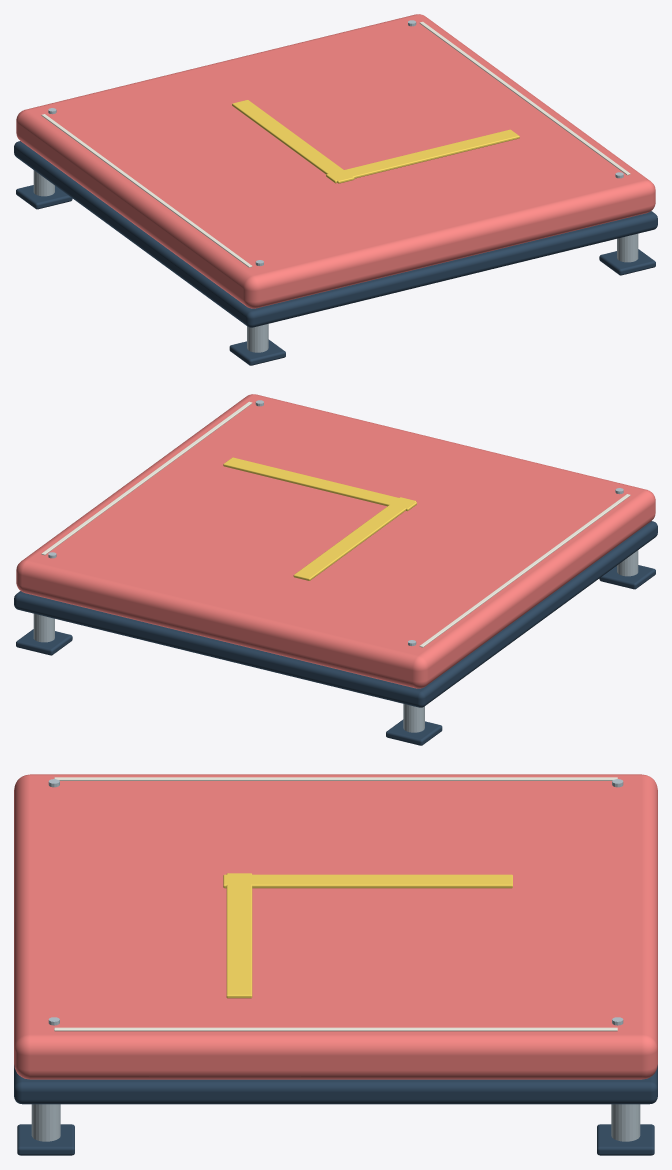
File: party-obstacle-course-party-obstacle-course-platform-c-126f562b__28924.glb
3 renders of one model, top to bottom at view 1: azimuth 30°, elevation 25°; view 2: azimuth 150°, elevation 25°; view 3: azimuth 270°, elevation 25°, orthographic. The views are drawn at different scales.
Parts seen in each view (by area): view 1: party-obstacle-course-platform-corner; view 2: party-obstacle-course-platform-corner; view 3: party-obstacle-course-platform-corner.
Boxes of the visible parts, box(x1,y1,x2,y2) form: party-obstacle-course-platform-corner: box(14, 14, 657, 365); party-obstacle-course-platform-corner: box(14, 394, 657, 745); party-obstacle-course-platform-corner: box(14, 774, 657, 1155).
Size of the model in its own units: 4 by 0.835 by 4.
